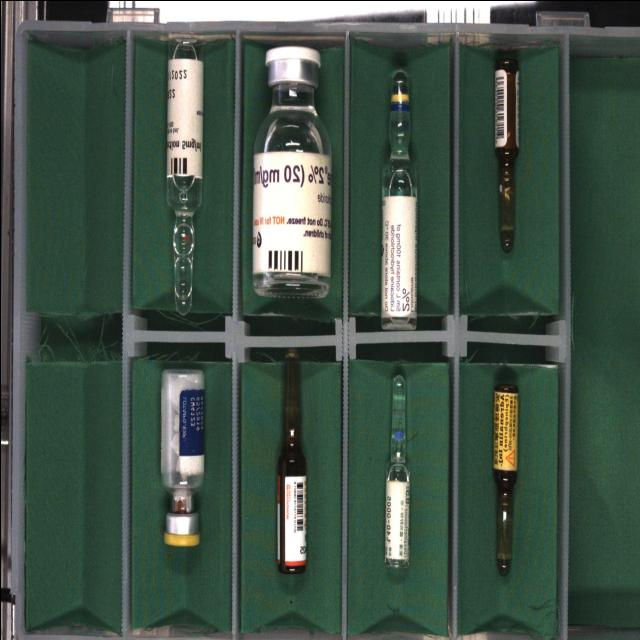Vials: (251, 45, 330, 297), (160, 369, 203, 545)
